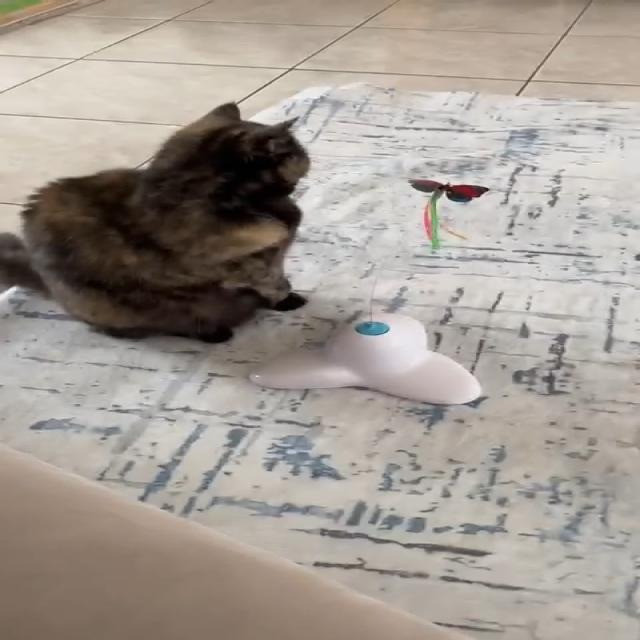authorized: (1, 100, 312, 344)
